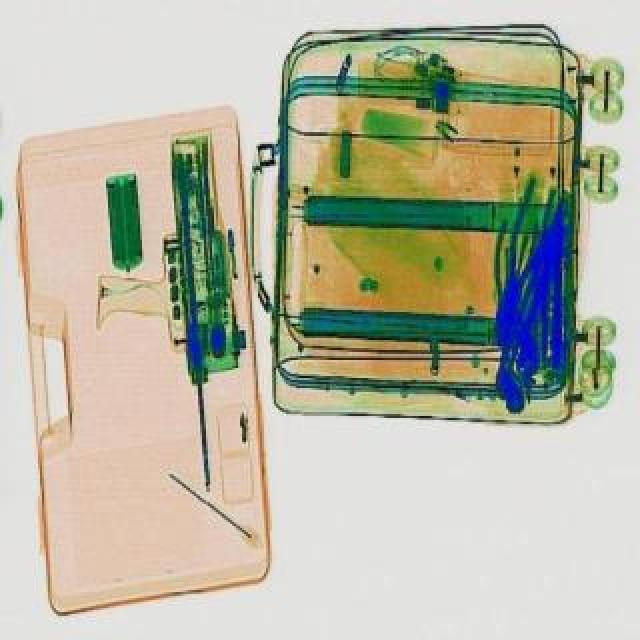wrench: (490, 176, 558, 310), (480, 216, 540, 344)
